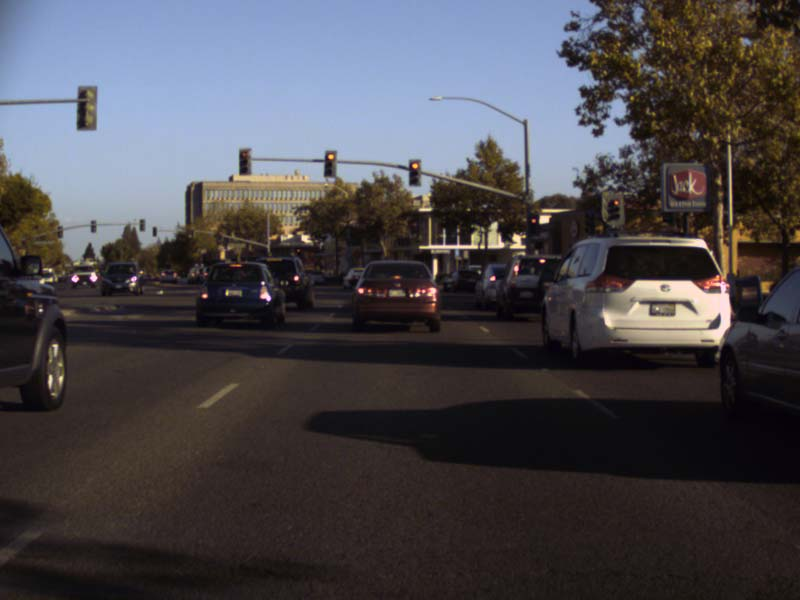Red: (238, 149, 252, 174), (607, 199, 620, 222), (408, 161, 420, 183), (325, 151, 335, 176), (529, 211, 537, 230), (295, 248, 300, 252)
